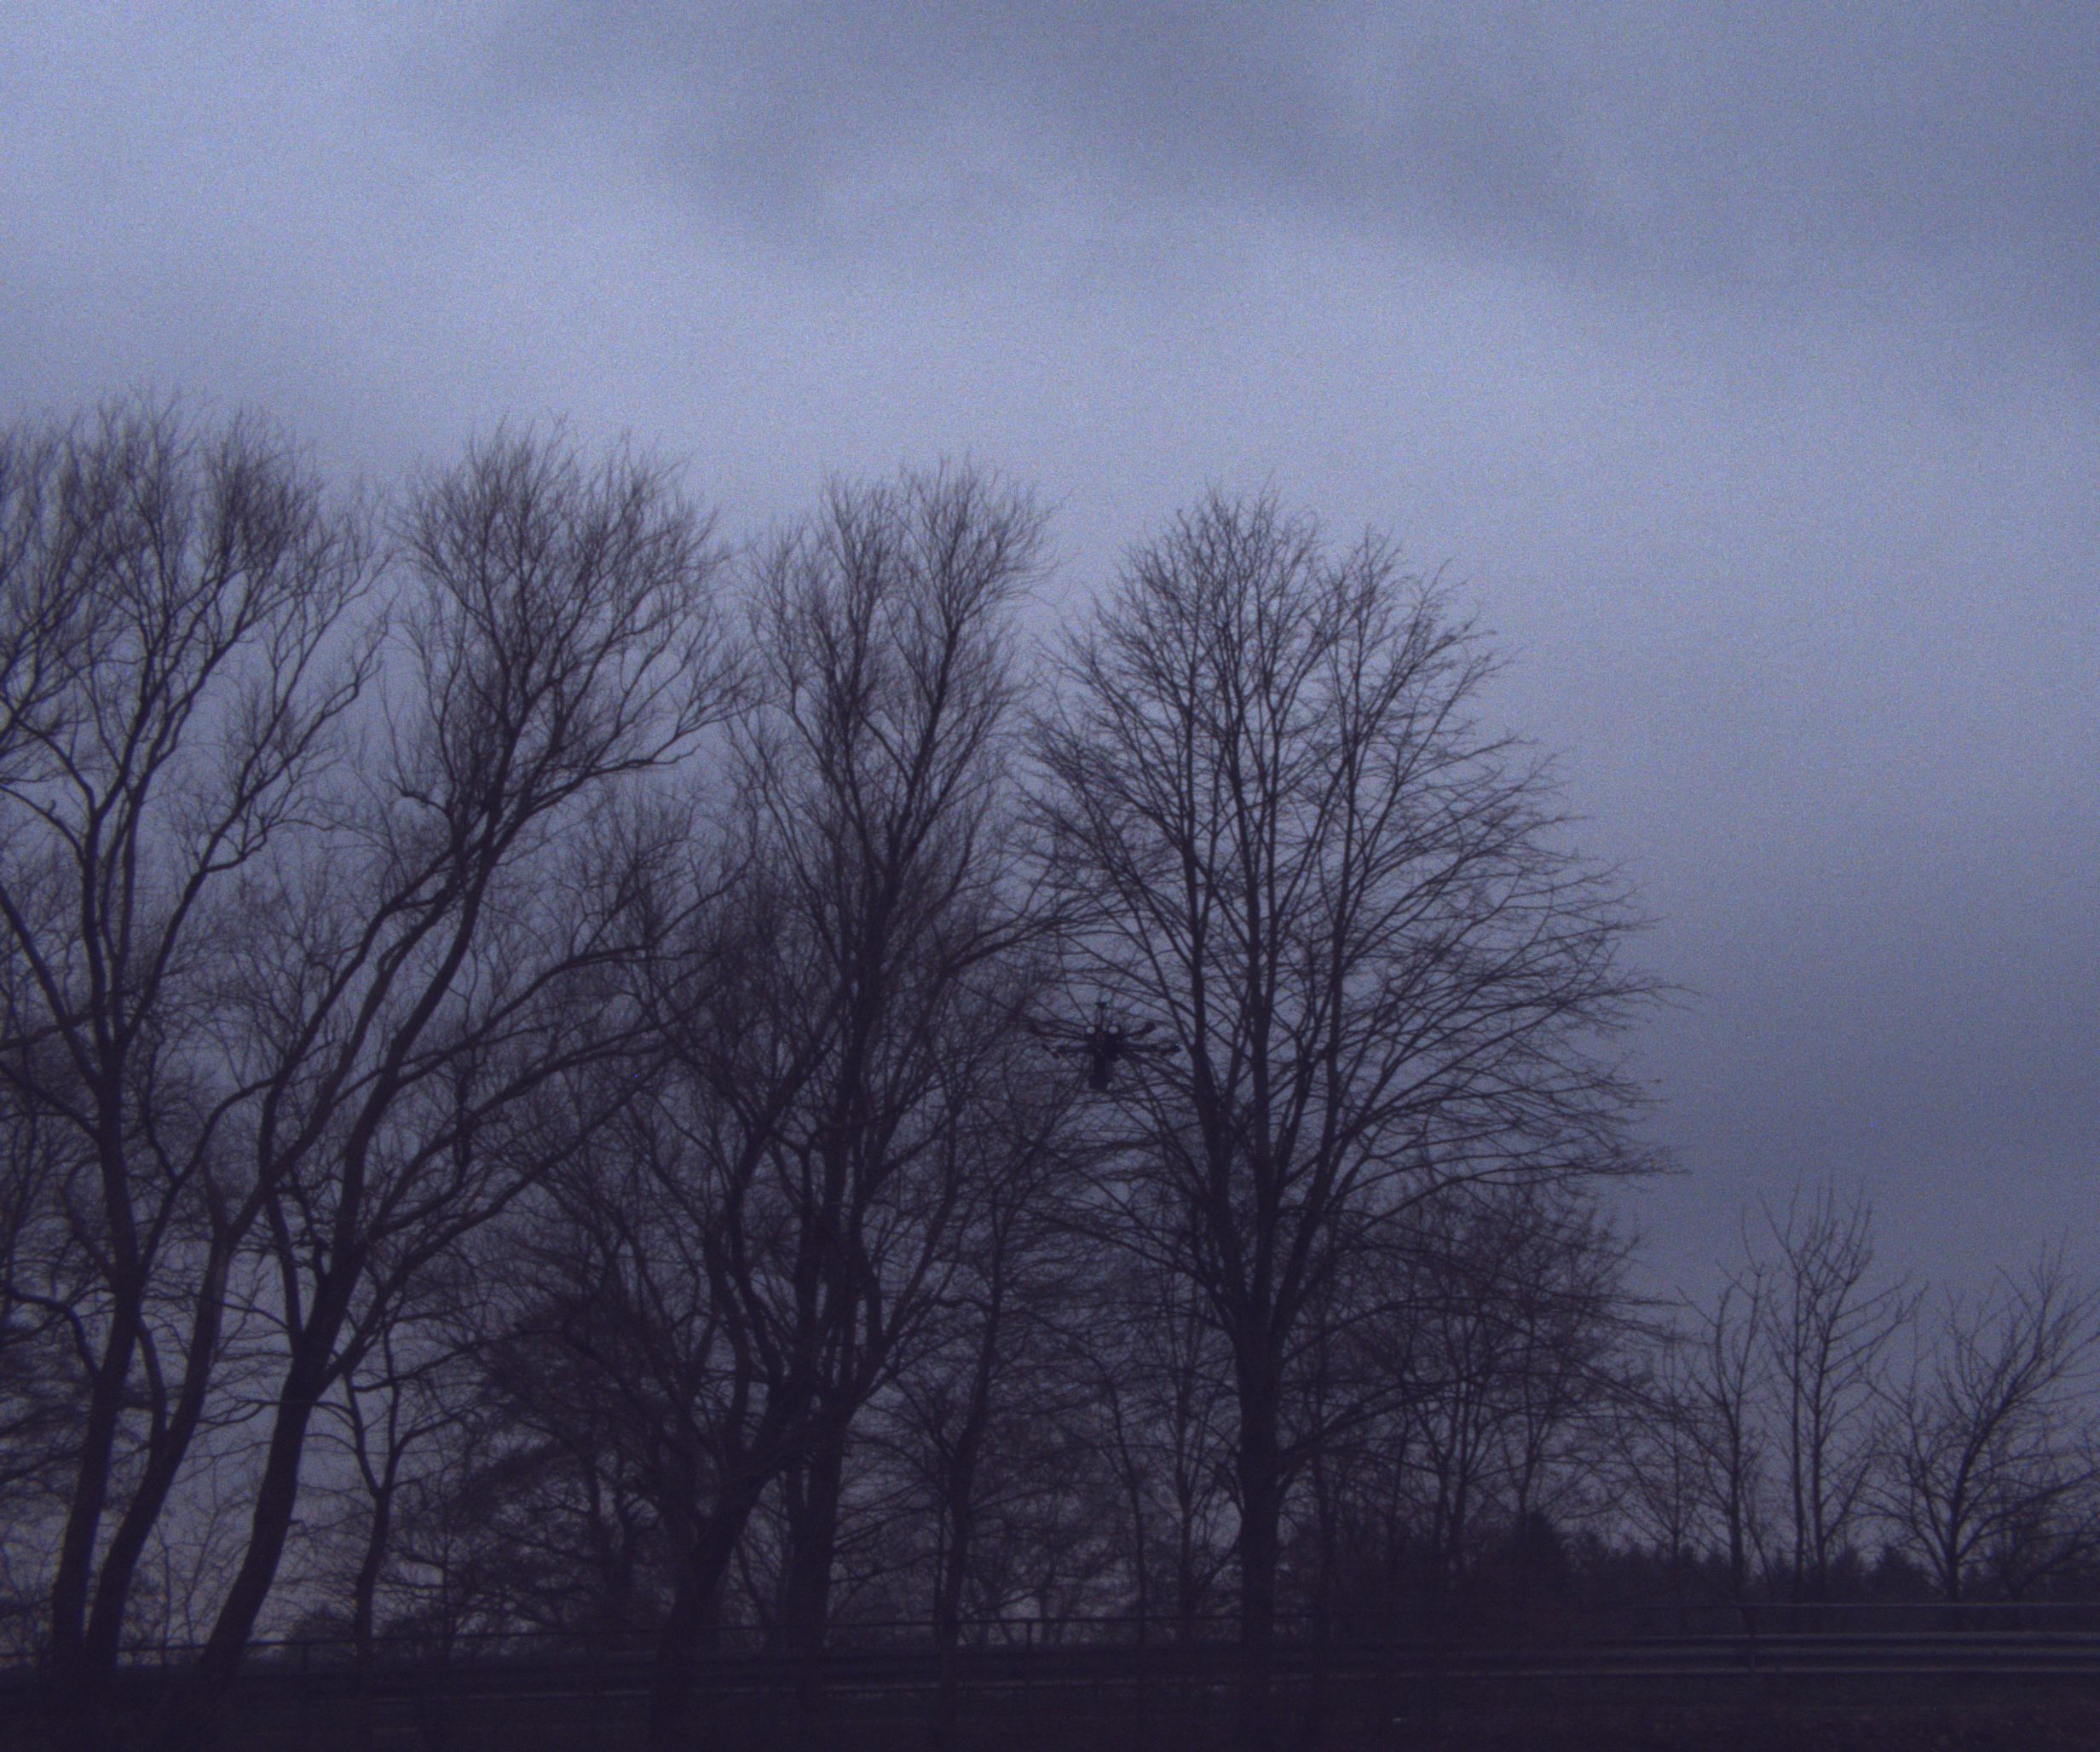Drohne: (1026, 990, 1231, 1110)
